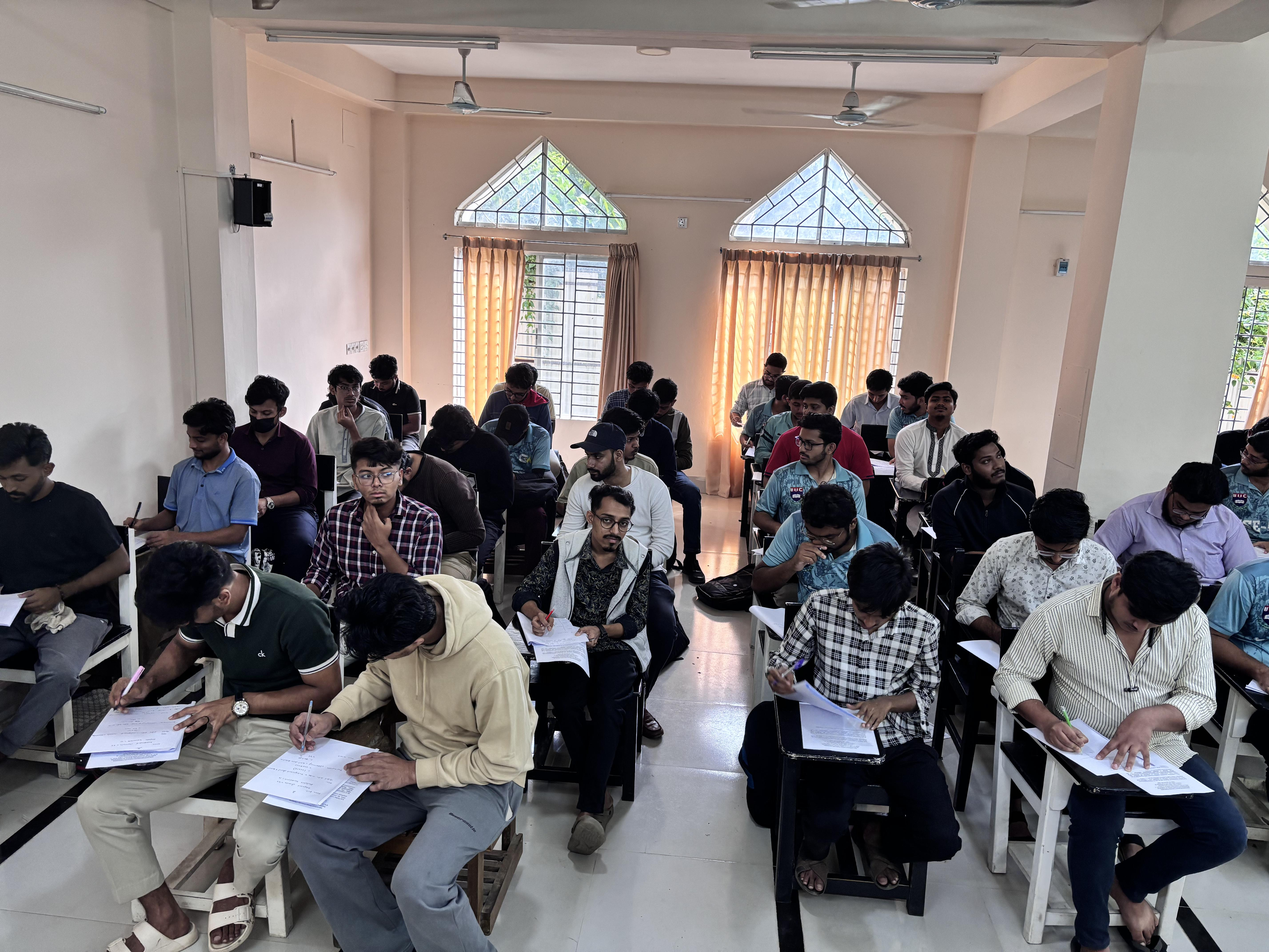no_cheating: (288, 582, 509, 912), (1002, 562, 1226, 782), (91, 542, 265, 805), (768, 536, 944, 788), (0, 415, 130, 676), (523, 497, 674, 704), (968, 510, 1120, 697), (1106, 442, 1269, 600), (137, 406, 253, 577), (751, 488, 865, 604), (229, 376, 314, 529), (418, 391, 507, 524), (482, 399, 559, 490), (350, 349, 420, 439), (840, 362, 902, 443), (484, 358, 555, 426), (732, 351, 796, 422)
side_talking: (604, 398, 847, 487)
suspicious_moving: (302, 447, 442, 588), (926, 439, 1035, 556), (560, 419, 645, 542), (298, 360, 379, 476), (902, 378, 976, 499)
